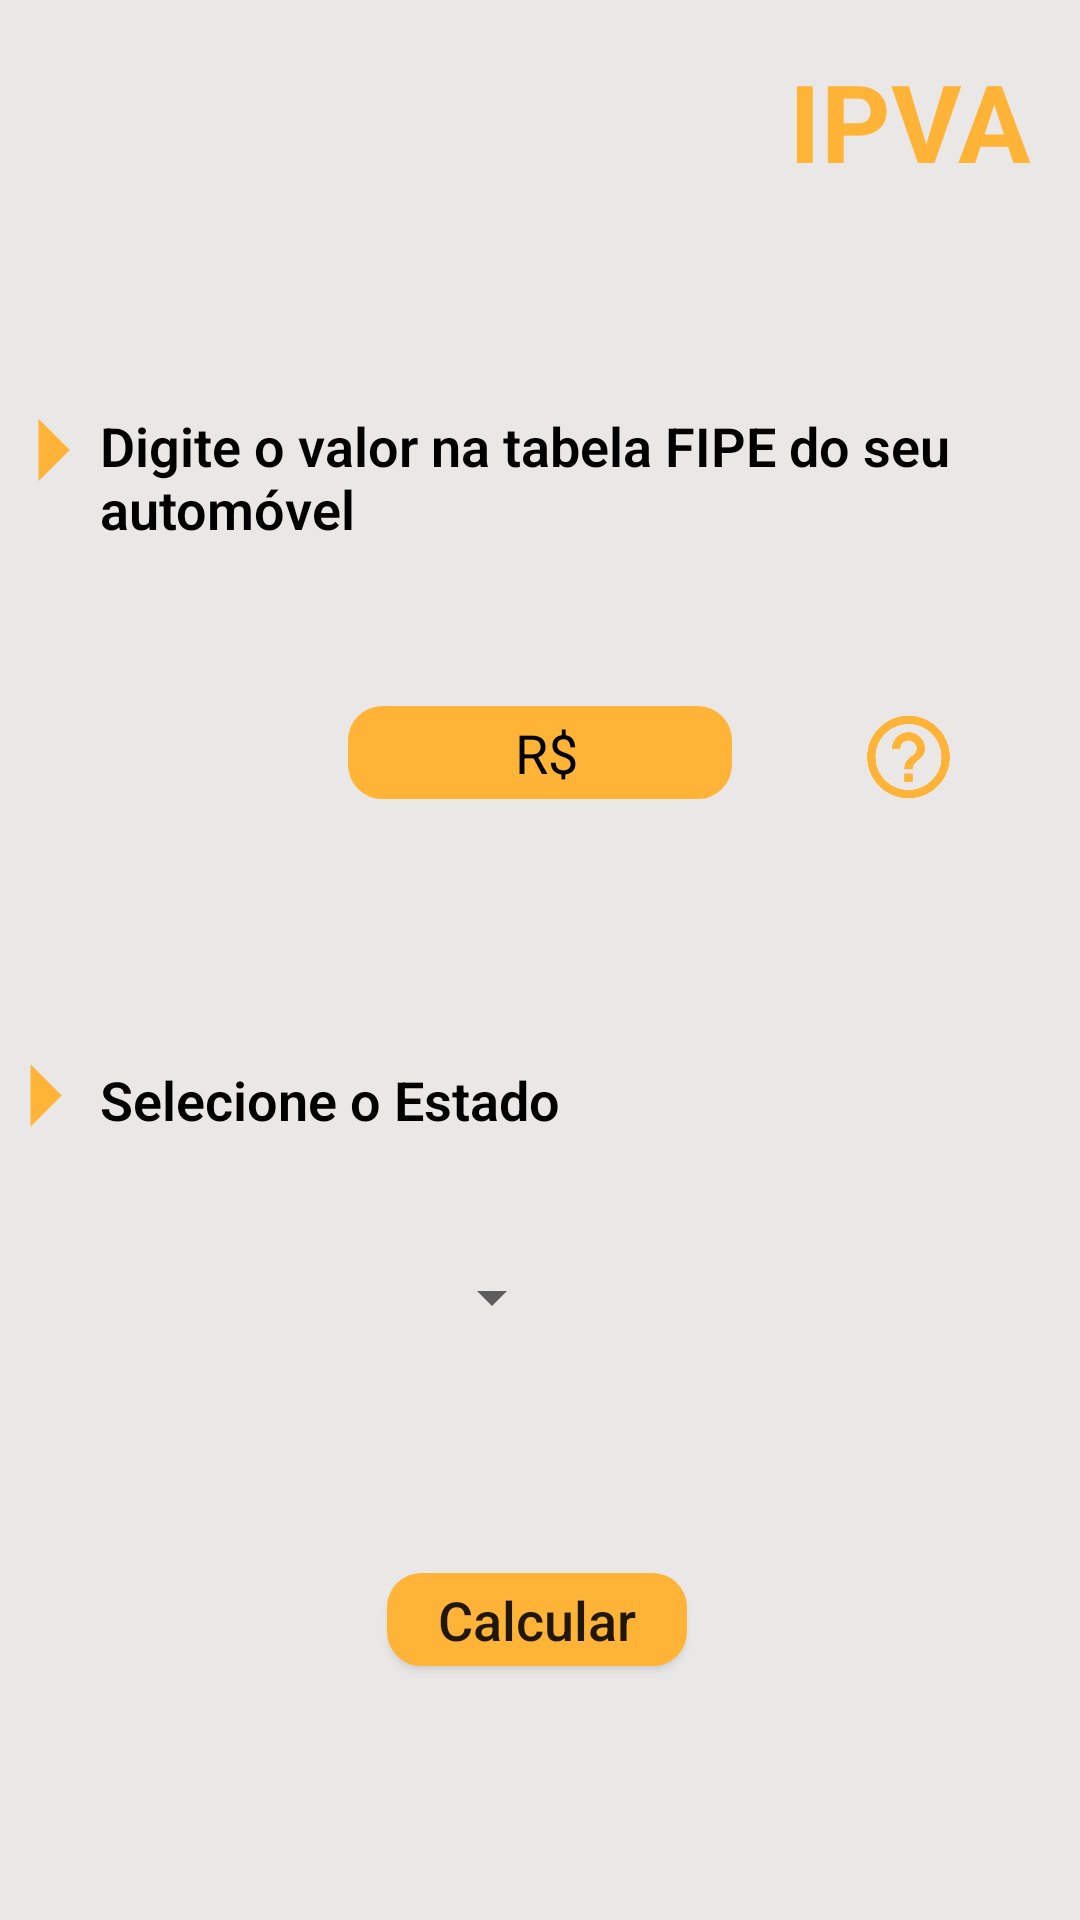

Icon bounding boxes for this 1080px×1920px phone screenshot, format (x1, y1, x2, y2):
help: (867, 716, 950, 798)
